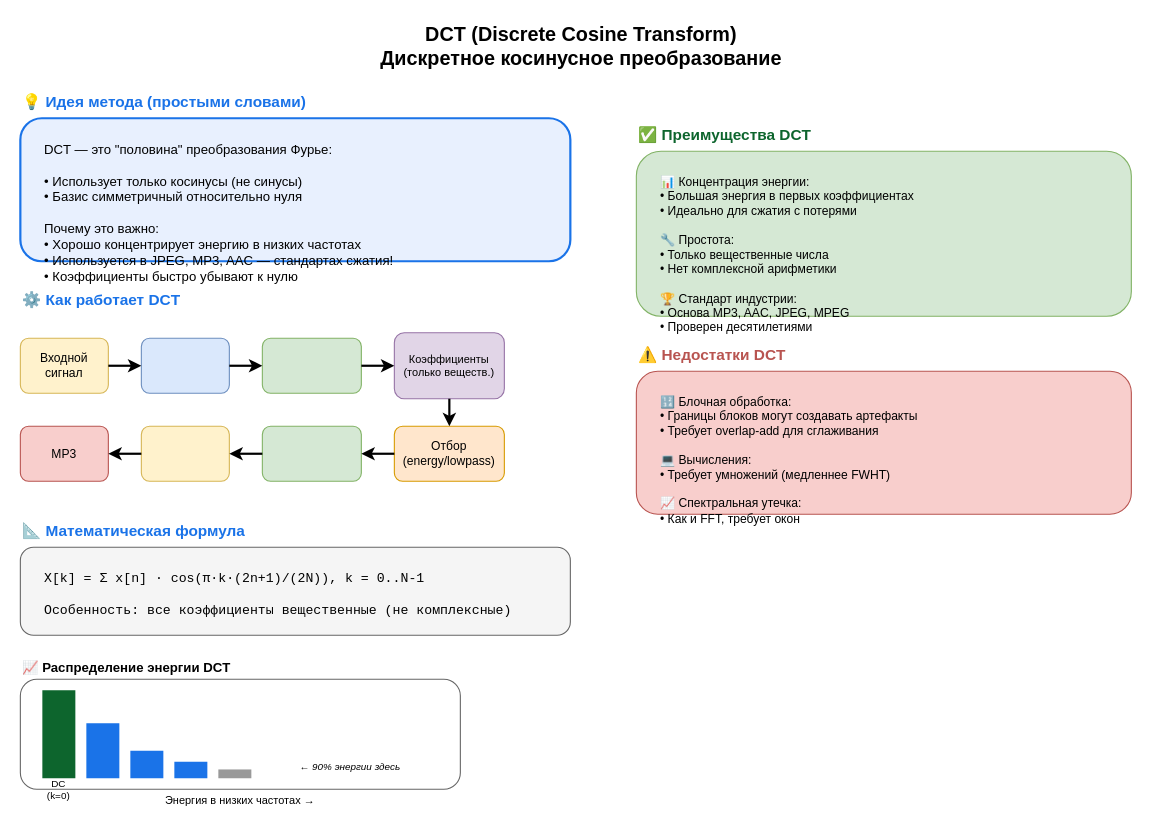
Image size: 1151x829. Some labels were removed from this diagram. Each missing label, with the centre of its shape:
DCT-II (ортонорм.): pixel 311 365
IDCT-III (обратное): pixel 311 453
Восстановленный сигнал: pixel 184 453
Окно Ханна: pixel 184 365
